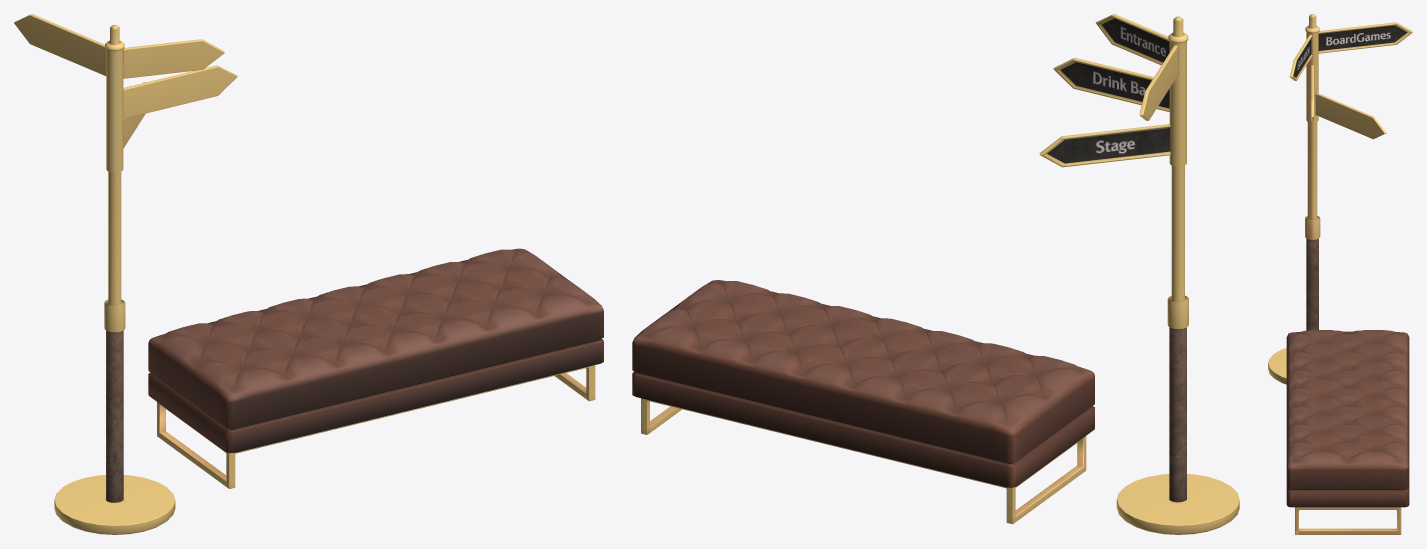
Rendered from CommunityRoomB_SofaC.fbx.
3 renders of one model, left to right at view 1: azimuth 30°, elevation 25°; view 2: azimuth 150°, elevation 25°; view 3: azimuth 270°, elevation 25°, orthographic. The views are drawn at different scales.
Visible parts, largest first — view 1: CommunityRoomB_SofaC; view 2: CommunityRoomB_SofaC; view 3: CommunityRoomB_SofaC.
Part boxes in pixels (left/top/right/bottom): CommunityRoomB_SofaC: left=14, top=14, right=603, bottom=534; CommunityRoomB_SofaC: left=632, top=14, right=1239, bottom=534; CommunityRoomB_SofaC: left=1268, top=14, right=1412, bottom=534.
Bounding box in the file's own units: 256 × 225 × 82.99.
